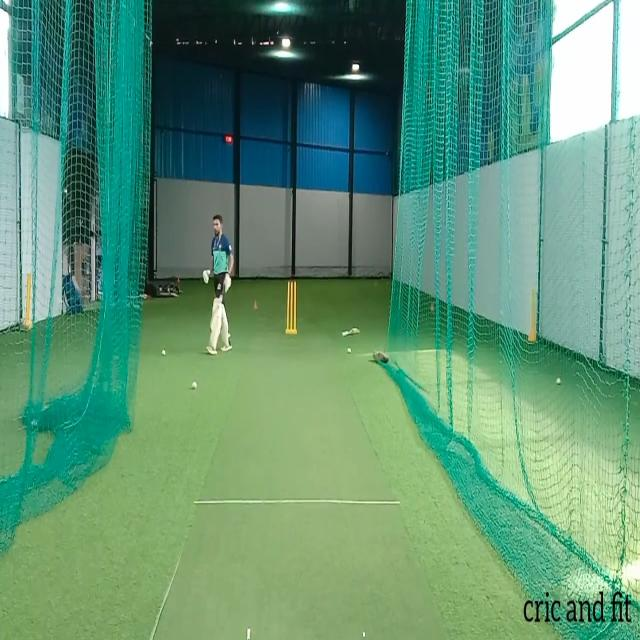batsman: (202, 213, 235, 357)
